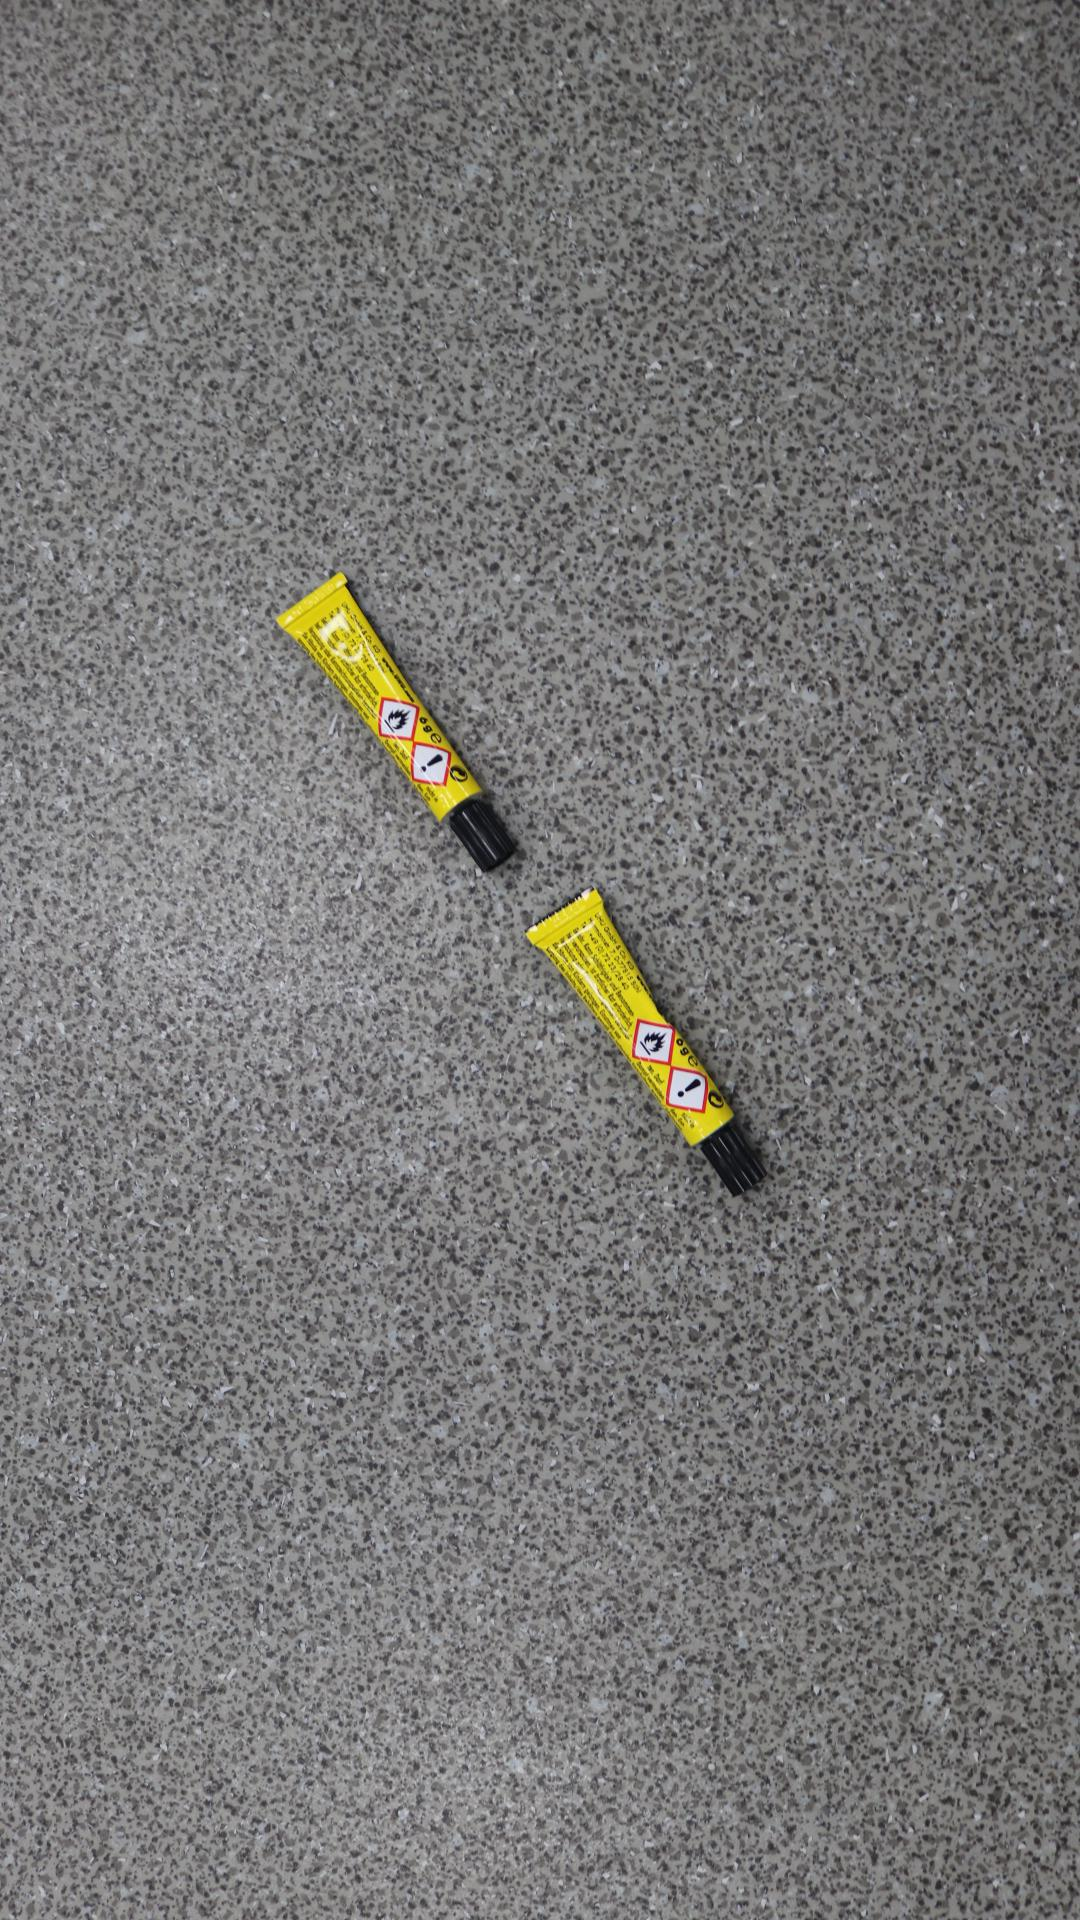Head: (732, 1157, 738, 1163), (481, 832, 486, 836)
Tail: (306, 600, 311, 605), (558, 916, 563, 921)
Tube: (522, 883, 768, 1199), (276, 571, 519, 875)
